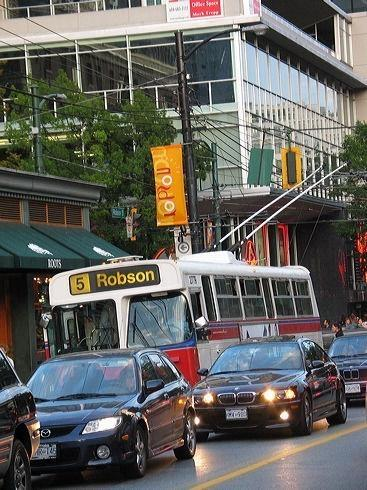bus: (49, 266, 329, 388)
car: (26, 347, 197, 480), (196, 338, 348, 429), (0, 349, 42, 483), (324, 329, 367, 402)
